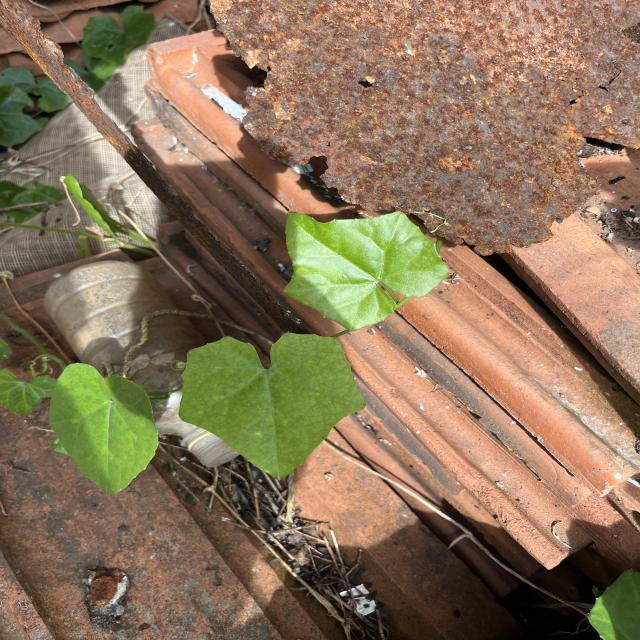Coccinia grandis: (177, 330, 369, 482), (282, 210, 452, 333)
